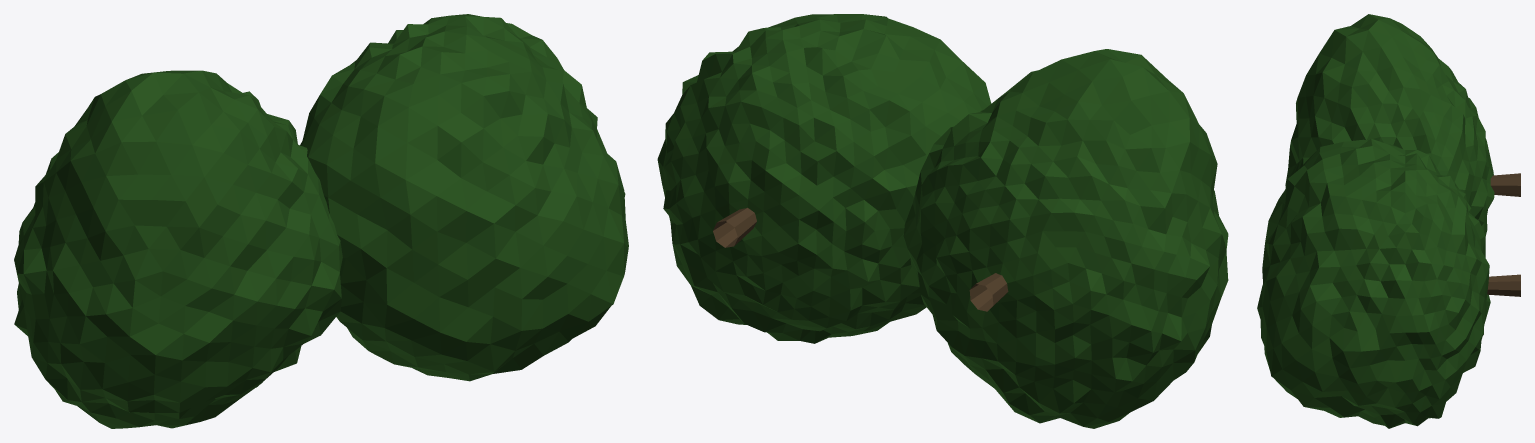
The model's file is citrus_run2_b.obj.
The picture shows the model from 3 angles, left to right: view 1: azimuth 30°, elevation 25°; view 2: azimuth 150°, elevation 25°; view 3: azimuth 270°, elevation 25°; orthographic projection. The views are drawn at different scales.
Visible parts, largest first — view 1: canopy; view 2: canopy, trunk; view 3: canopy, trunk.
Part boxes in pixels (<box>): canopy: <box>14,14,628,428</box>; canopy: <box>657,14,1228,428</box>; trunk: <box>713,207,1008,311</box>; canopy: <box>1257,14,1494,428</box>; trunk: <box>1487,173,1520,296</box>.
Size of the model in its own units: 6.31 by 3.93 by 3.3.
